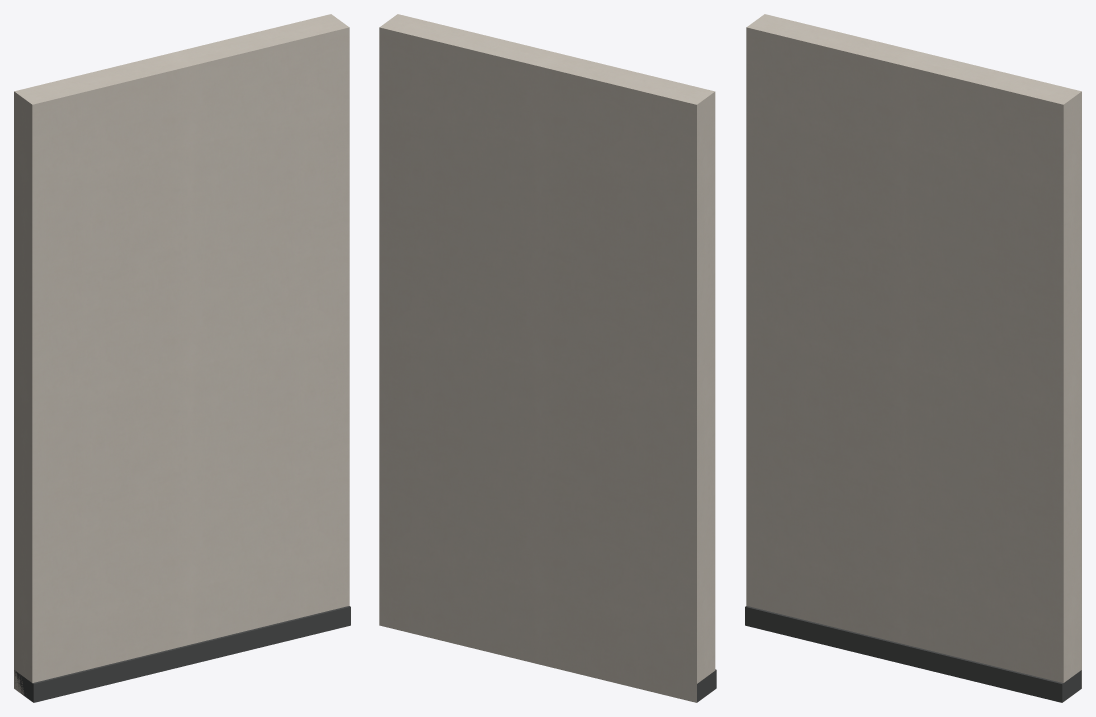
Rendered from drywall_panel.glb.
3 renders of one model, left to right at view 1: azimuth 30°, elevation 25°; view 2: azimuth 150°, elevation 25°; view 3: azimuth 330°, elevation 25°, orthographic.
Parts seen in each view (by area): view 1: Exact 1.5m office wall module, Integral skirting; view 2: Exact 1.5m office wall module; view 3: Exact 1.5m office wall module, Integral skirting.
Boxes of the visible parts, <box> form: Exact 1.5m office wall module: <box>14,14,349,698</box>; Integral skirting: <box>14,606,350,702</box>; Exact 1.5m office wall module: <box>379,14,715,702</box>; Exact 1.5m office wall module: <box>746,14,1081,698</box>; Integral skirting: <box>745,606,1081,702</box>.
Bounding box in the file's own units: 1.5 × 2.7 × 0.161.
2 materials, 1 textured.
